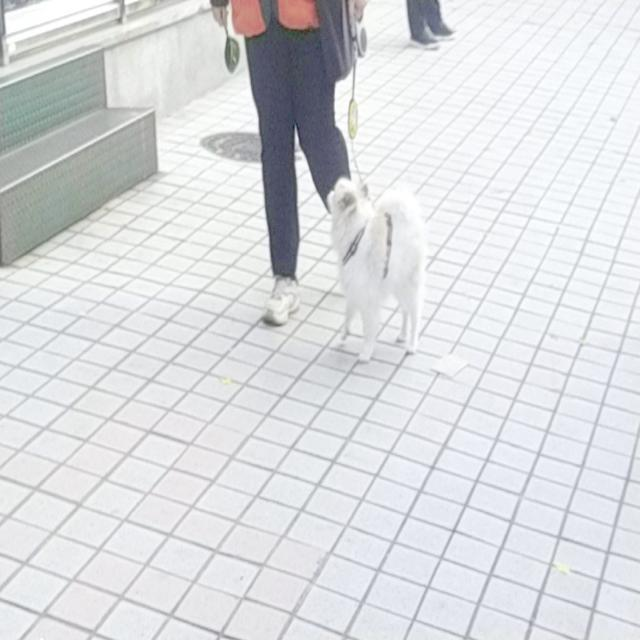Leashed_Dog: (261, 0, 426, 364)
